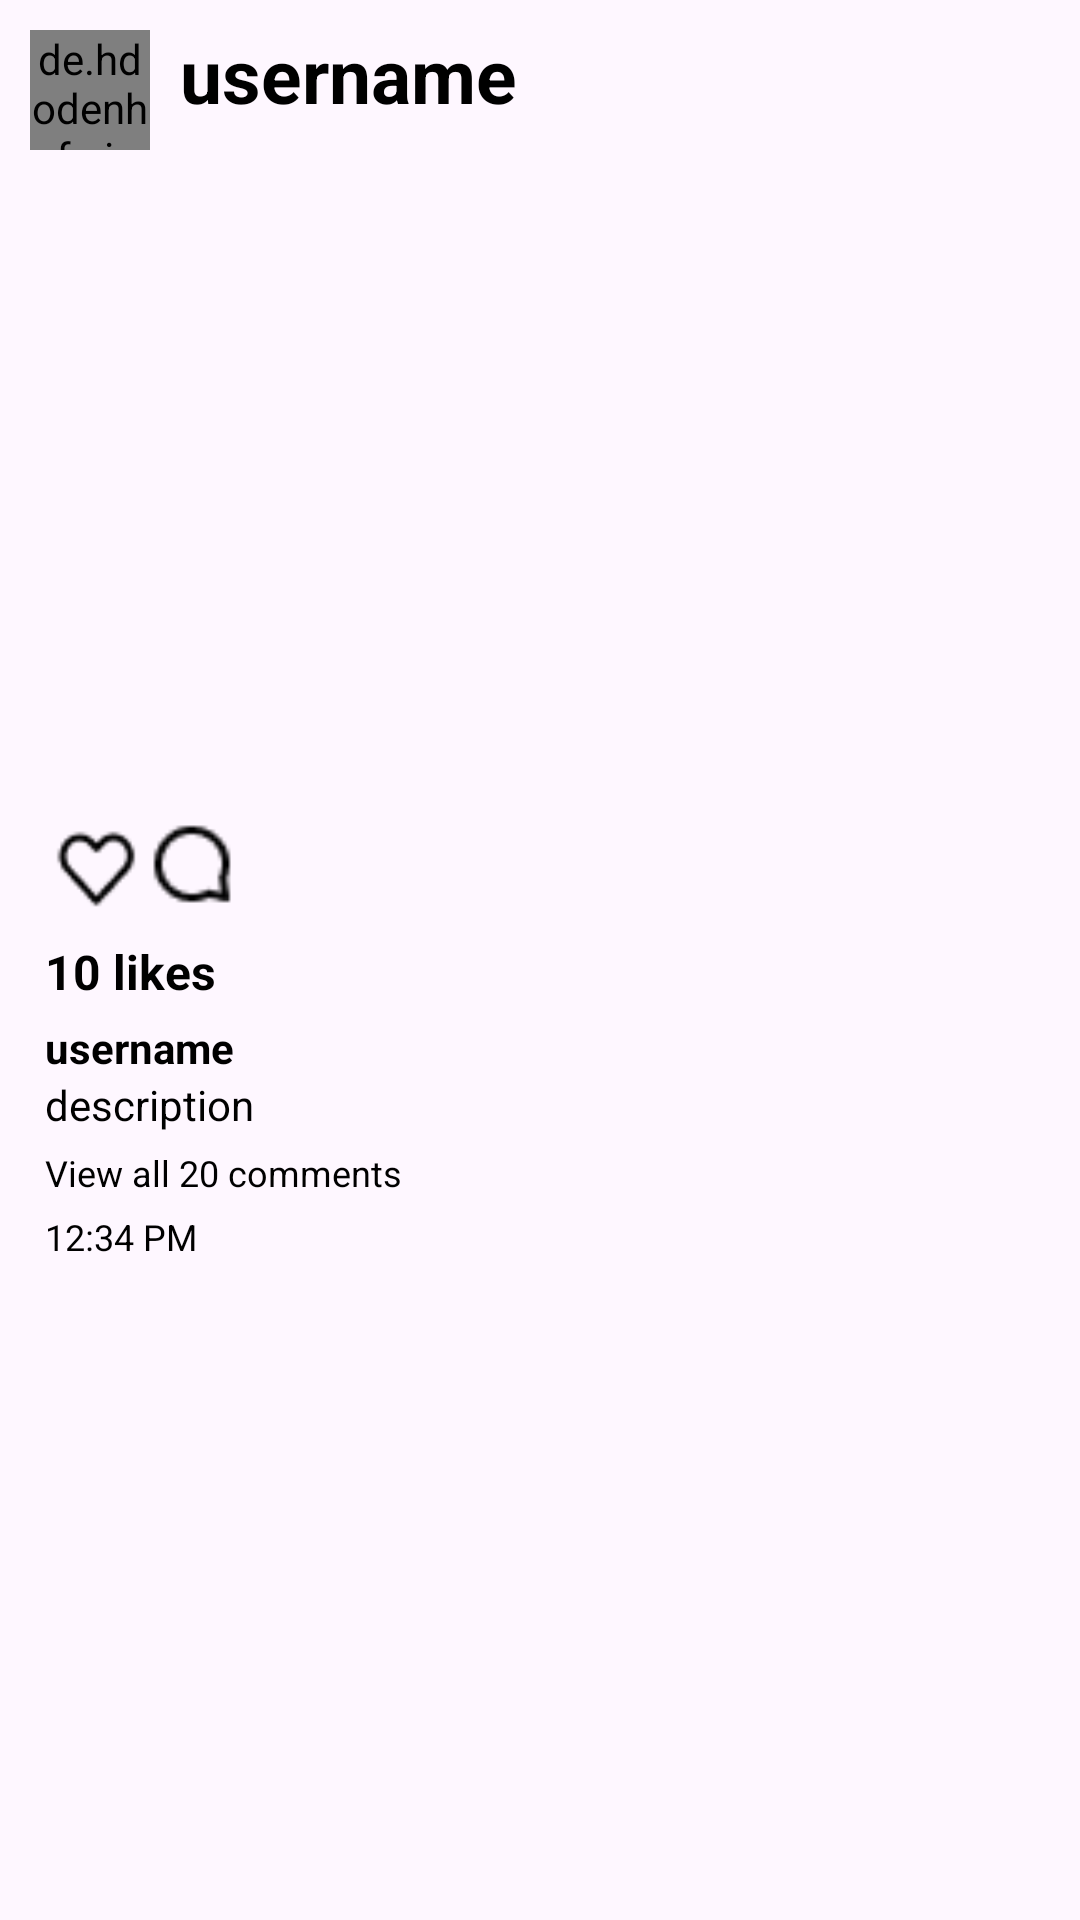

Icons on this 1080×1920 Android screen, each with its box as bbox=[x1, y1, x2, y2]:
comment: bbox=[153, 825, 231, 903]
